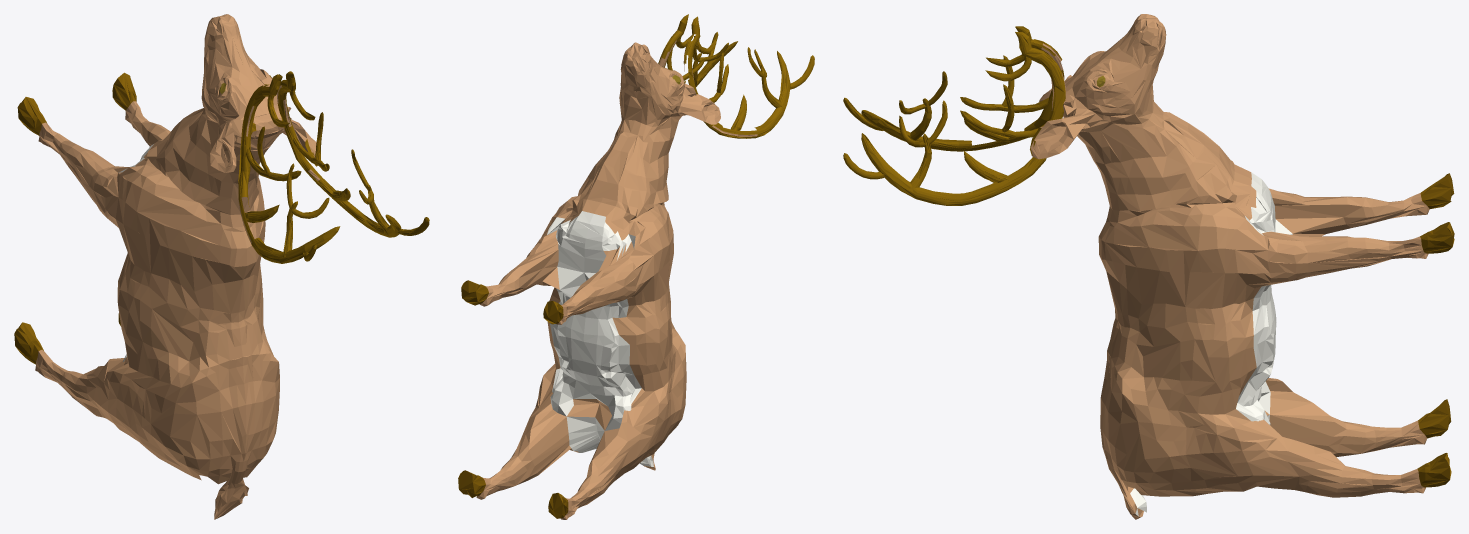
Rendered from RAINDEER.glb.
The picture shows the model from 3 angles, left to right: view 1: azimuth 30°, elevation 25°; view 2: azimuth 150°, elevation 25°; view 3: azimuth 270°, elevation 25°; orthographic projection. The views are drawn at different scales.
Parts seen in each view (by area): view 1: _0; view 2: _0; view 3: _0.
Part boxes in pixels (x1=…): _0: x1=14, y1=14, x2=429, y2=519; _0: x1=458, y1=14, x2=814, y2=519; _0: x1=843, y1=14, x2=1454, y2=519.
Bounding box in the file's own units: 1.88 × 6.43 × 7.02.
